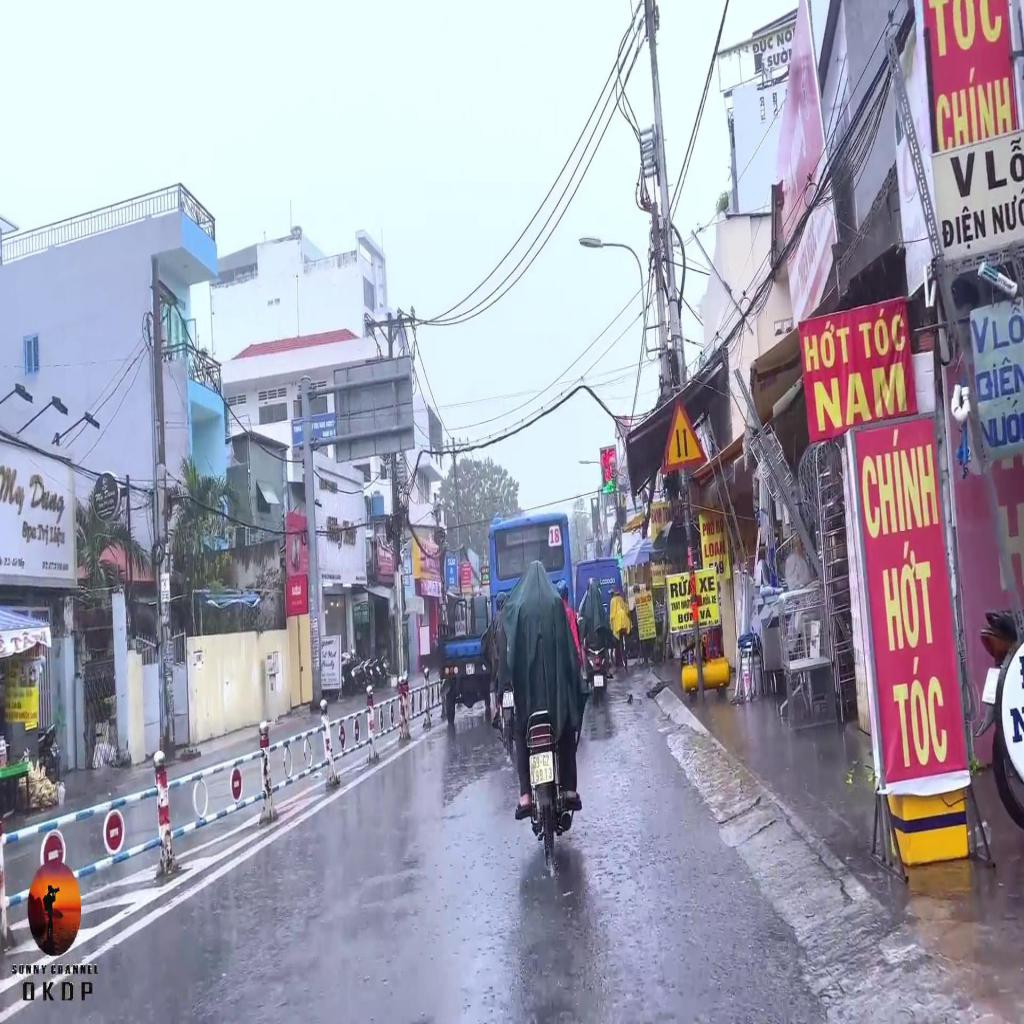khac: (659, 394, 706, 475)
